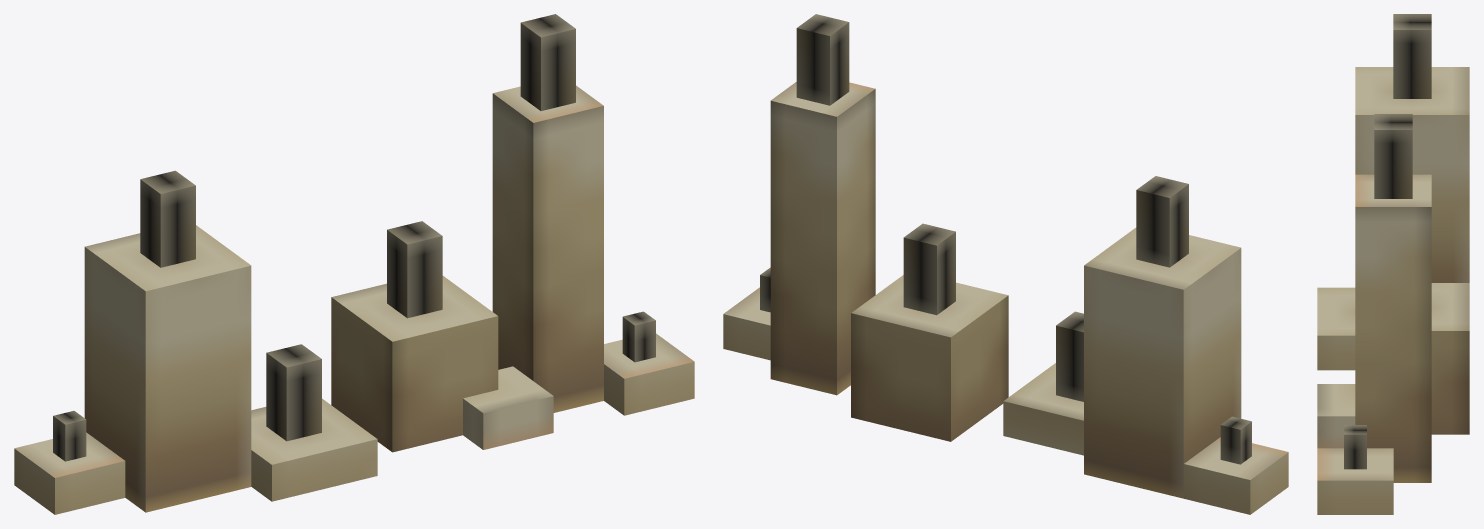
The model's file is candle_arrangement_01.fbx.
The picture shows the model from 3 angles, left to right: view 1: azimuth 30°, elevation 25°; view 2: azimuth 150°, elevation 25°; view 3: azimuth 270°, elevation 25°; orthographic projection. The views are drawn at different scales.
Parts seen in each view (by area): view 1: candle_arrangement_01; view 2: candle_arrangement_01; view 3: candle_arrangement_01.
Part boxes in pixels (<box>): candle_arrangement_01: <box>14,14,694,514</box>; candle_arrangement_01: <box>723,14,1288,514</box>; candle_arrangement_01: <box>1317,14,1469,514</box>.
Size of the model in its own units: 17 by 10 by 4.
